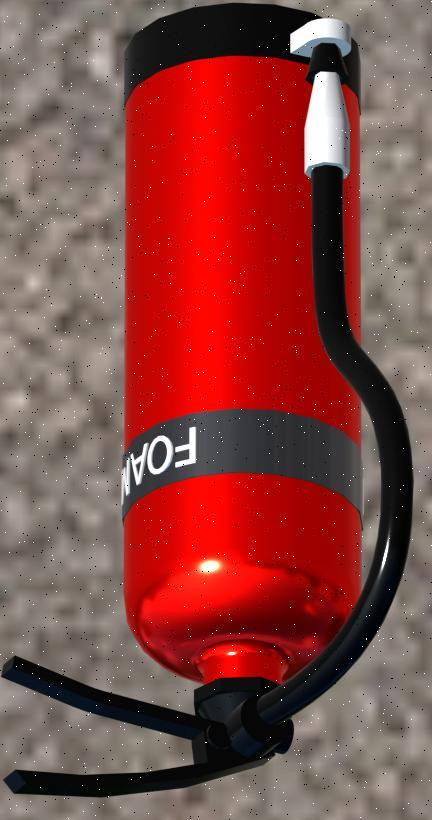Fire Extinguisher: (0, 0, 432, 795)
